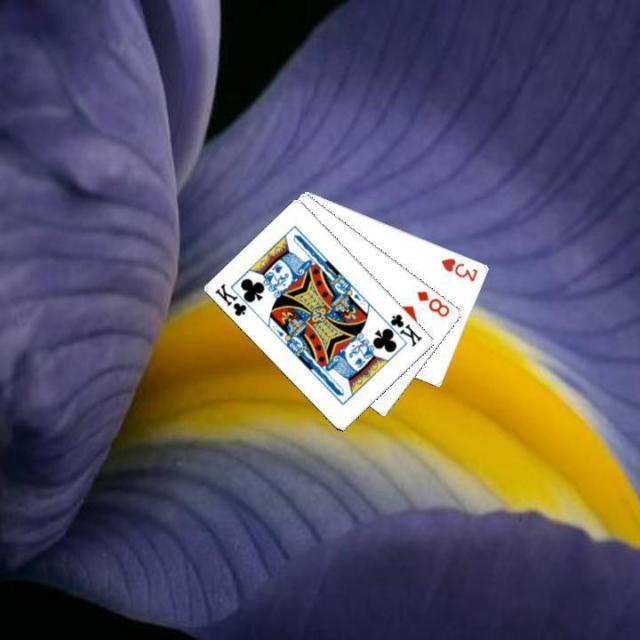3H: (437, 254, 480, 284)
8D: (414, 287, 452, 319)
KC: (211, 280, 257, 318), (380, 311, 424, 348)
